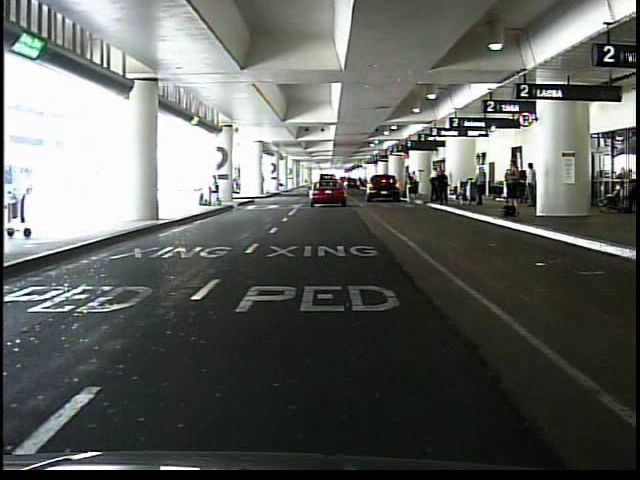person: (505, 158, 525, 220), (621, 173, 640, 214), (523, 163, 537, 208), (437, 170, 452, 208), (209, 173, 224, 208), (429, 167, 443, 204), (476, 167, 488, 207), (406, 168, 419, 204)
